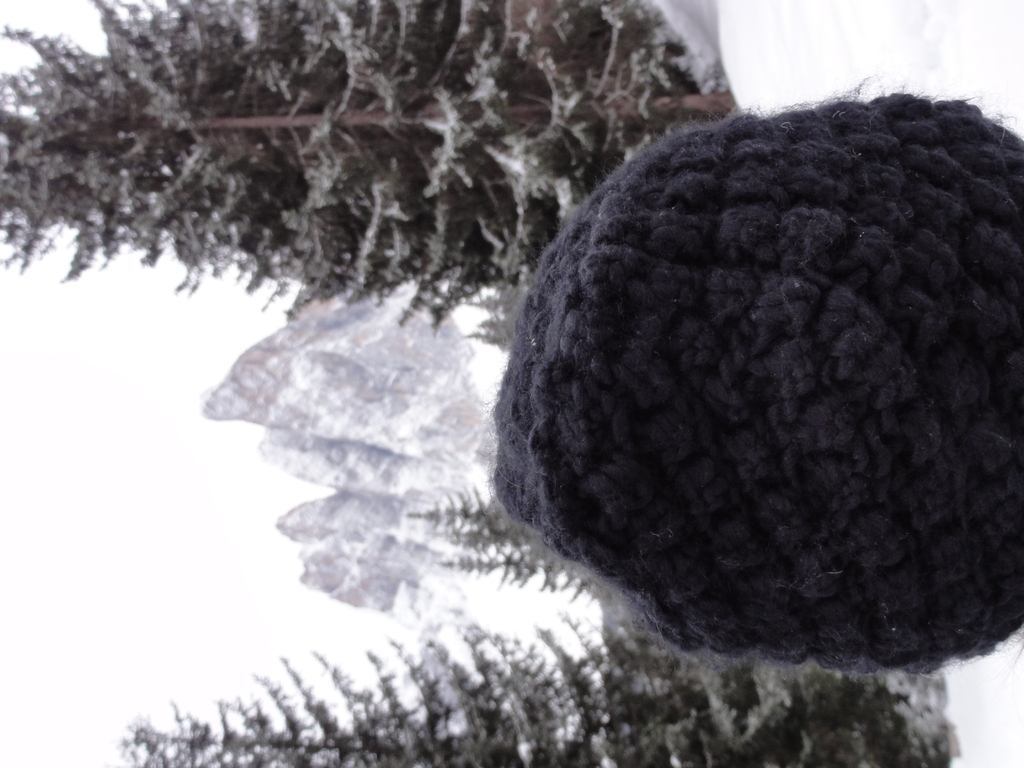Tree: (0, 0, 961, 768)
